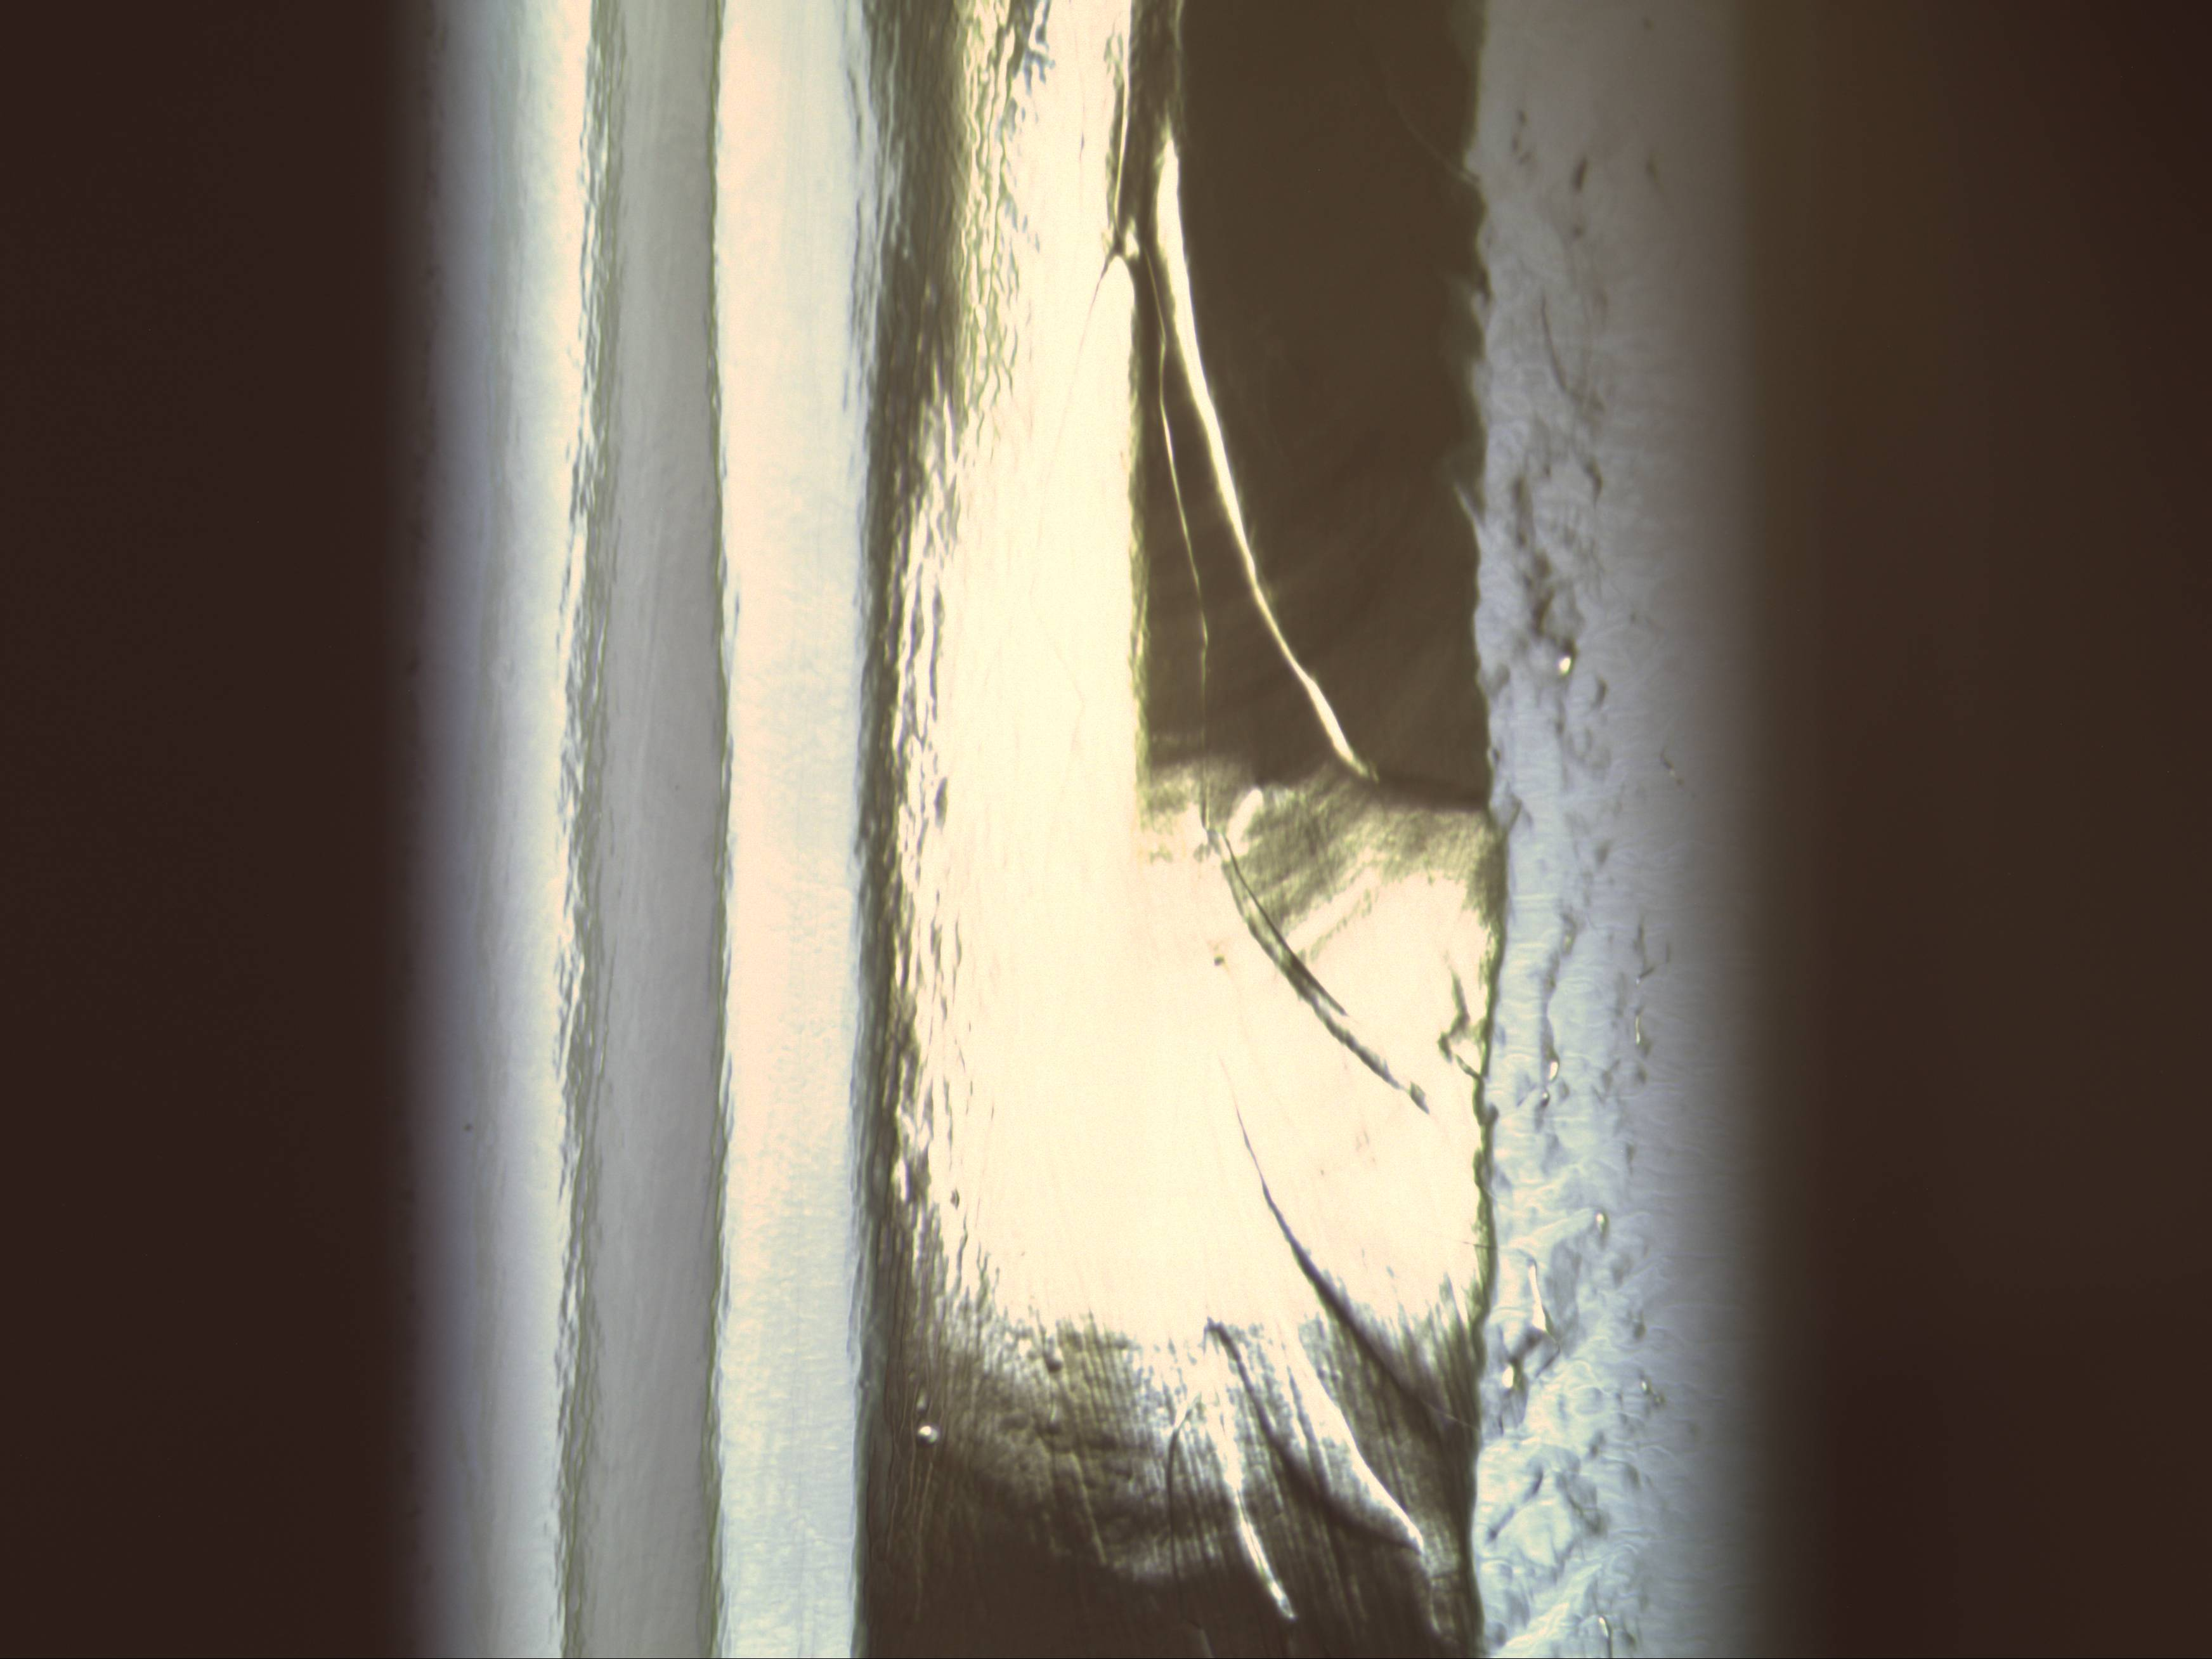defect: (909, 1413, 946, 1446)
